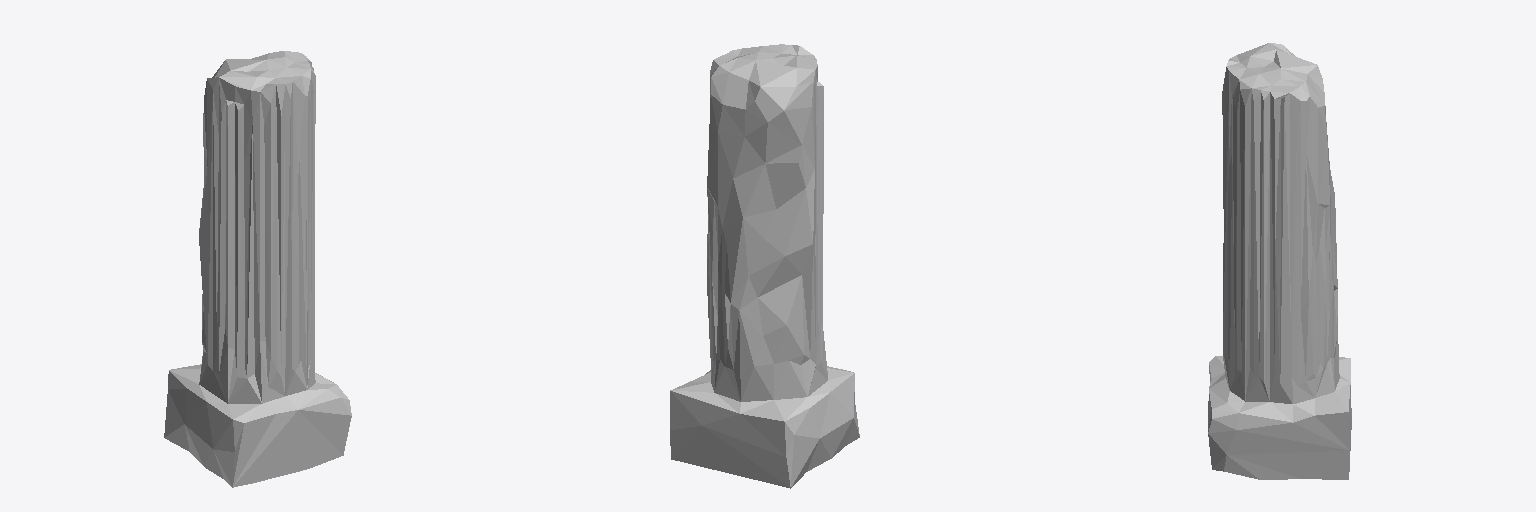
File: pillar3.obj
3 views of the same model, side by side, from view 1: azimuth 30°, elevation 25°; view 2: azimuth 150°, elevation 25°; view 3: azimuth 270°, elevation 25° (orthographic).
Parts seen in each view (by area): view 1: Low_Cleanup_Cylinder.007; view 2: Low_Cleanup_Cylinder.007; view 3: Low_Cleanup_Cylinder.007.
Part boxes in pixels (x1,y1,x2,y2): Low_Cleanup_Cylinder.007: (164,51,351,487); Low_Cleanup_Cylinder.007: (670,44,859,488); Low_Cleanup_Cylinder.007: (1208,43,1351,479).
Size of the model in its own units: 2.15 by 6.2 by 2.09.